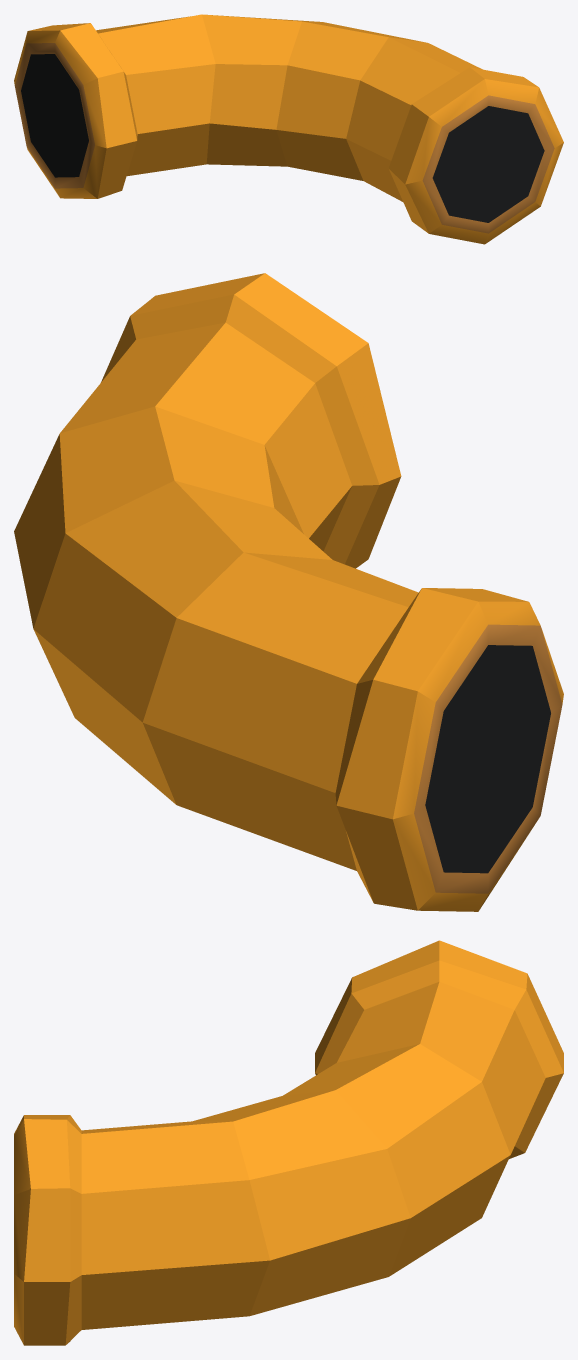
File: SM_Prop_Pipe_Curve_01.fbx
The picture shows the model from 3 angles, top to bottom: view 1: azimuth 30°, elevation 25°; view 2: azimuth 150°, elevation 25°; view 3: azimuth 270°, elevation 25°; orthographic projection. The views are drawn at different scales.
Parts seen in each view (by area): view 1: SM_Prop_Pipe_Curve_01; view 2: SM_Prop_Pipe_Curve_01; view 3: SM_Prop_Pipe_Curve_01.
Boxes of the visible parts, bbox=[...] form: SM_Prop_Pipe_Curve_01: bbox=[14, 14, 563, 244]; SM_Prop_Pipe_Curve_01: bbox=[14, 273, 563, 911]; SM_Prop_Pipe_Curve_01: bbox=[14, 940, 563, 1345].
Bounding box in the file's own units: 258 × 117 × 258.
